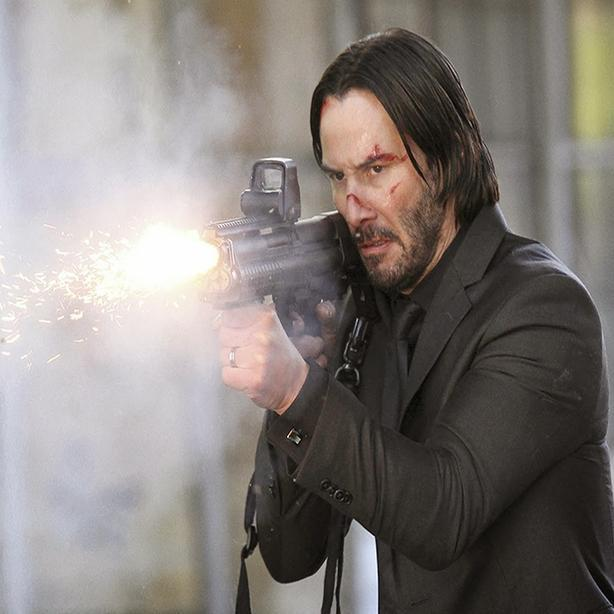Firearm: (173, 149, 397, 384)
